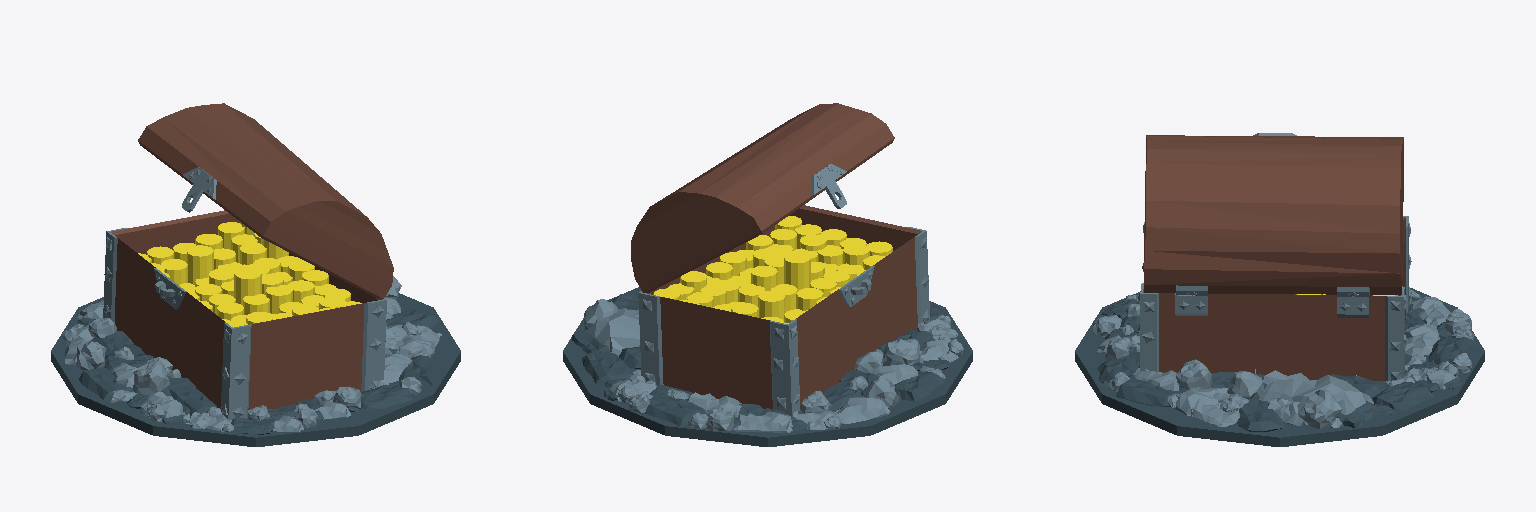
File: Treasure.obj
3 views of the same model, side by side, from view 1: azimuth 30°, elevation 25°; view 2: azimuth 150°, elevation 25°; view 3: azimuth 270°, elevation 25° (orthographic).
Parts seen in each view (by area): view 1: group[number redacted], group[number redacted], group[number redacted], group[number redacted], group[number redacted], group[number redacted], group[number redacted], group[number redacted], group[number redacted], group[number redacted], group[number redacted], group[number redacted] (+5 smaller); view 2: group[number redacted], group[number redacted], group[number redacted], group[number redacted], group[number redacted], group[number redacted], group[number redacted], group[number redacted], group[number redacted], group[number redacted], group[number redacted], group[number redacted] (+7 smaller); view 3: group[number redacted], group[number redacted], group[number redacted], group[number redacted], group[number redacted], group[number redacted], group[number redacted], group[number redacted], group[number redacted], group[number redacted], group[number redacted], group[number redacted] (+8 smaller).
Boxes of the visible parts, x1=… form: group[number redacted]: x1=103, y1=210, x2=386, y2=419; group[number redacted]: x1=138, y1=103, x2=393, y2=298; group[number redacted]: x1=51, y1=293, x2=460, y2=446; group[number redacted]: x1=361, y1=381, x2=414, y2=409; group[number redacted]: x1=133, y1=360, x2=169, y2=395; group[number redacted]: x1=79, y1=367, x2=133, y2=399; group[number redacted]: x1=187, y1=245, x2=213, y2=284; group[number redacted]: x1=234, y1=268, x2=261, y2=304; group[number redacted]: x1=399, y1=355, x2=435, y2=388; group[number redacted]: x1=76, y1=340, x2=106, y2=370; group[number redacted]: x1=170, y1=387, x2=216, y2=415; group[number redacted]: x1=91, y1=331, x2=145, y2=357; group[number redacted]: x1=638, y1=205, x2=929, y2=415; group[number redacted]: x1=631, y1=103, x2=894, y2=292; group[number redacted]: x1=563, y1=287, x2=972, y2=446; group[number redacted]: x1=587, y1=309, x2=639, y2=356; group[number redacted]: x1=583, y1=351, x2=634, y2=384; group[number redacted]: x1=645, y1=395, x2=706, y2=425; group[number redacted]: x1=835, y1=396, x2=889, y2=423; group[number redacted]: x1=734, y1=411, x2=792, y2=432; group[number redacted]: x1=894, y1=371, x2=944, y2=401; group[number redacted]: x1=784, y1=252, x2=810, y2=290; group[number redacted]: x1=883, y1=339, x2=922, y2=366; group[number redacted]: x1=758, y1=291, x2=784, y2=320; group[number redacted]: x1=1144, y1=133, x2=1403, y2=297; group[number redacted]: x1=1140, y1=216, x2=1408, y2=380; group[number redacted]: x1=1075, y1=288, x2=1484, y2=446; group[number redacted]: x1=1259, y1=370, x2=1373, y2=427; group[number redacted]: x1=1297, y1=389, x2=1341, y2=428; group[number redacted]: x1=1372, y1=382, x2=1434, y2=412; group[number redacted]: x1=1237, y1=399, x2=1285, y2=431; group[number redacted]: x1=1116, y1=378, x2=1180, y2=406; group[number redacted]: x1=1428, y1=337, x2=1477, y2=364; group[number redacted]: x1=1405, y1=324, x2=1439, y2=355; group[number redacted]: x1=1176, y1=359, x2=1211, y2=390; group[number redacted]: x1=1192, y1=399, x2=1239, y2=426.
Bounding box in the file's own units: 1.51 × 0.8566 × 1.51.